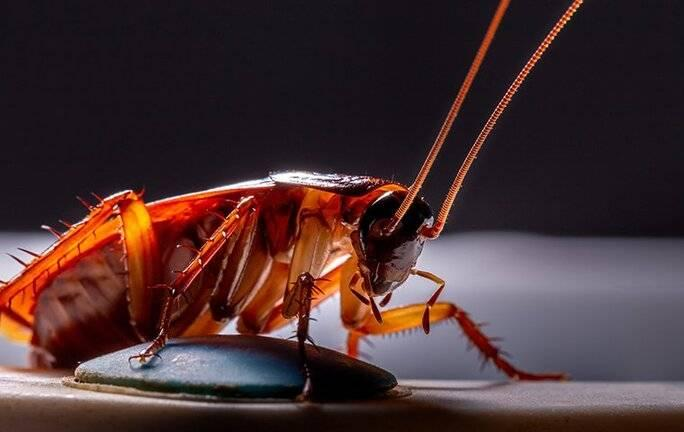cockroach: (1, 166, 458, 340)
